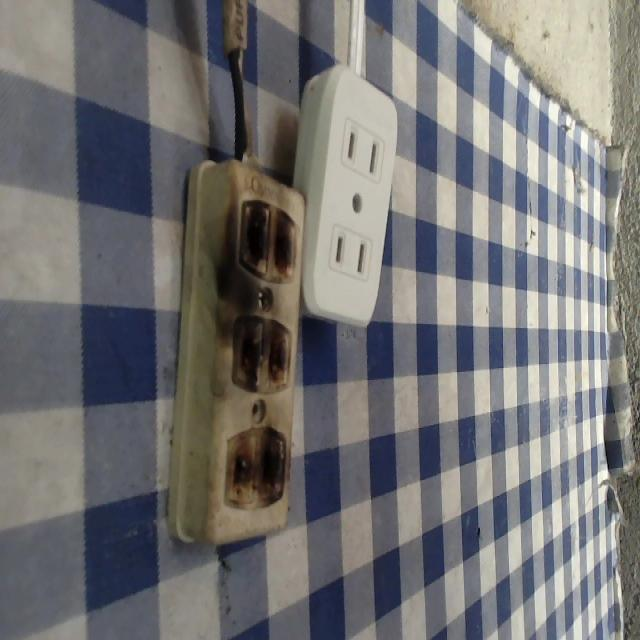-: (229, 315, 296, 405), (223, 424, 288, 513), (238, 196, 304, 279)
